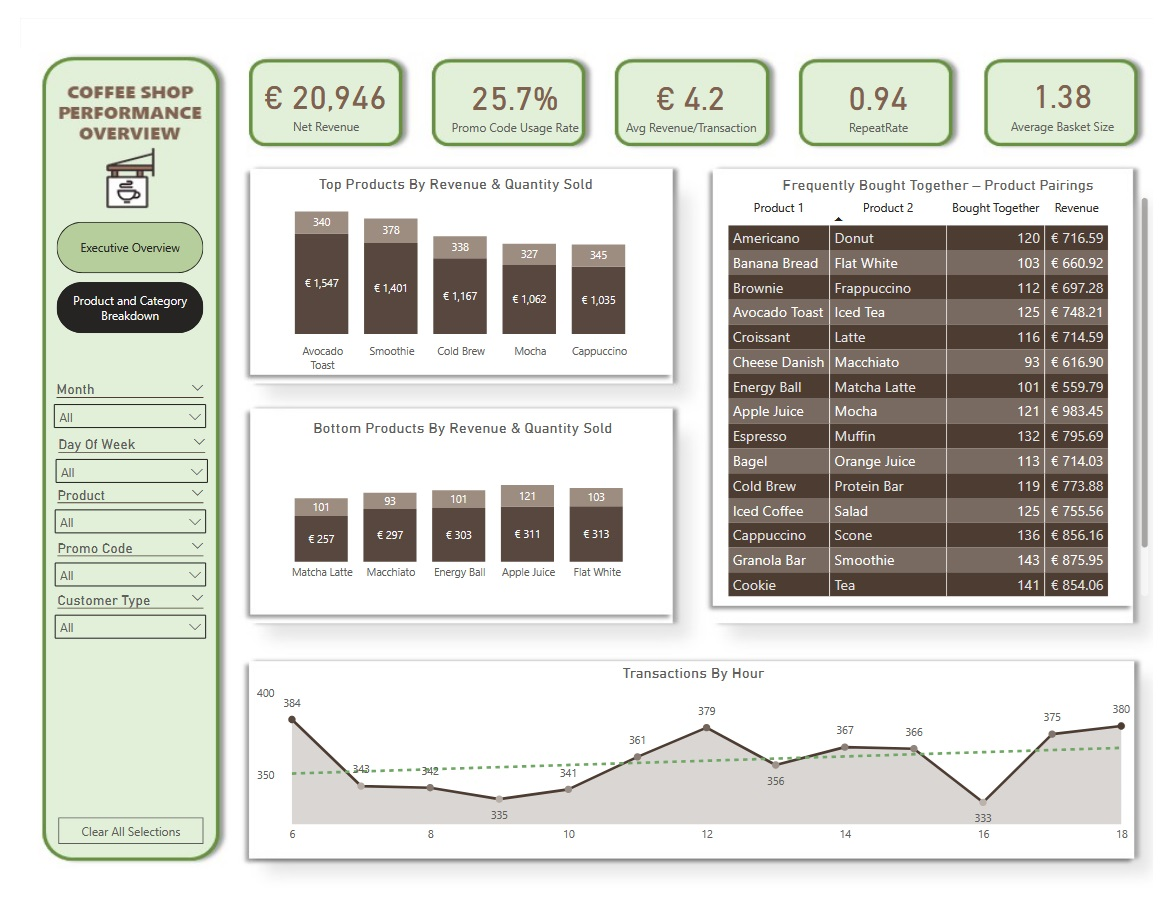

This screenshot's page, from the dashboard's own definition file:
{"tool":"powerbi","page":{"name":"Product and Category Breakdown","canvas":[1280,1000],"ordinal":1},"visuals":[{"type":"columnChart","title":"Top 5 Products","fields":{"Category":["Transactions.Product"],"Y":["Sum(Transactions.Revenue)","Transactions.Units Sold"]},"box":[274.3,480,444.3,164.3],"z":0},{"type":"textbox","box":[300,448.3,400,35],"z":1000},{"type":"tableEx","title":"Frequently Bought Together – Product Pairings","fields":{"Values":["ProductBundles.Product1","ProductBundles.Product2","Sum(ProductBundles.TimesBoughtTogether)","ProductBundles.TotalRevenueBoth"]},"box":[794,178,486,480],"z":2000},{"type":"columnChart","title":"Top Products By Revenue & Quantity Sold","fields":{"Category":["Transactions.Product"],"Y":["Sum(Transactions.Revenue)","Transactions.Units Sold"]},"box":[261.7,176.7,460,231.7],"z":3000},{"type":"card","fields":{"Values":["Transactions.Avg Rev Per Transaction"]},"box":[653.2,46.8,209.7,96.8],"z":4000},{"type":"card","fields":{"Values":["Sum(Transactions.Revenue)"]},"box":[227.7,46.2,235.4,96.9],"z":5000},{"type":"card","fields":{"Values":["Transactions.PromoUsageRatio"]},"box":[462.9,46.8,191.9,96.8],"z":6000},{"type":"card","fields":{"Values":["Transactions.Repeat Rate"]},"box":[874.2,46.8,190.3,96.8],"z":7000},{"type":"lineChart","title":"Transactions By Hour","fields":{"Category":["Transactions.Hour"],"Y":["Transactions.UniqueTransactions"]},"box":[261.9,730.2,996.8,209.5],"z":8000},{"type":"pageNavigator","title":"Navigation","box":[41.4,230,165.7,127.1],"z":9000},{"type":"actionButton","box":[42.9,902.9,164.3,30],"z":10000},{"type":"slicer","title":"Day Of Week","fields":{"Values":["DayOfWeekTable.DayOfWeek"]},"box":[30,466.7,191.7,61.7],"z":11000},{"type":"slicer","title":"Day Of Week","fields":{"Values":["Transactions.Date.Variation.Date Hierarchy.Month"]},"box":[28.3,405,191.7,61.7],"z":12000},{"type":"slicer","title":"Day Of Week","fields":{"Values":["Transactions.PromoCode"]},"box":[28.8,583.8,191.2,60],"z":13000},{"type":"slicer","title":"Day Of Week","fields":{"Values":["Transactions.CustomerType"]},"box":[28.8,642.5,191.2,60],"z":14000},{"type":"slicer","title":"Day Of Week","fields":{"Values":["Transactions.Product"]},"box":[28.8,523.8,191.2,60],"z":15000},{"type":"card","fields":{"Values":["Transactions.Average Basket Size"]},"box":[1081.7,45,191.7,98.3],"z":16000}]}

Visuals, with their boxes in screenshot pixels (x1, y1, x2, y2), scaled from the page's 1280x1000 canvas onto the 1170x909 screenshot:
"Top 5 Products" columnChart: <box>251,436,657,586</box>
textbox: <box>274,408,640,439</box>
"Frequently Bought Together – Product Pairings" tableEx: <box>726,162,1169,598</box>
"Top Products By Revenue & Quantity Sold" columnChart: <box>239,161,660,371</box>
card - Transactions.Avg Rev Per Transaction: <box>597,43,789,131</box>
card - Sum(Transactions.Revenue): <box>208,42,423,130</box>
card - Transactions.PromoUsageRatio: <box>423,43,599,131</box>
card - Transactions.Repeat Rate: <box>799,43,973,131</box>
"Transactions By Hour" lineChart: <box>239,664,1151,854</box>
"Navigation" pageNavigator: <box>38,209,189,325</box>
actionButton: <box>39,821,189,848</box>
"Day Of Week" slicer: <box>27,424,203,480</box>
"Day Of Week" slicer: <box>26,368,201,424</box>
"Day Of Week" slicer: <box>26,531,201,585</box>
"Day Of Week" slicer: <box>26,584,201,639</box>
"Day Of Week" slicer: <box>26,476,201,531</box>
card - Transactions.Average Basket Size: <box>989,41,1164,130</box>
